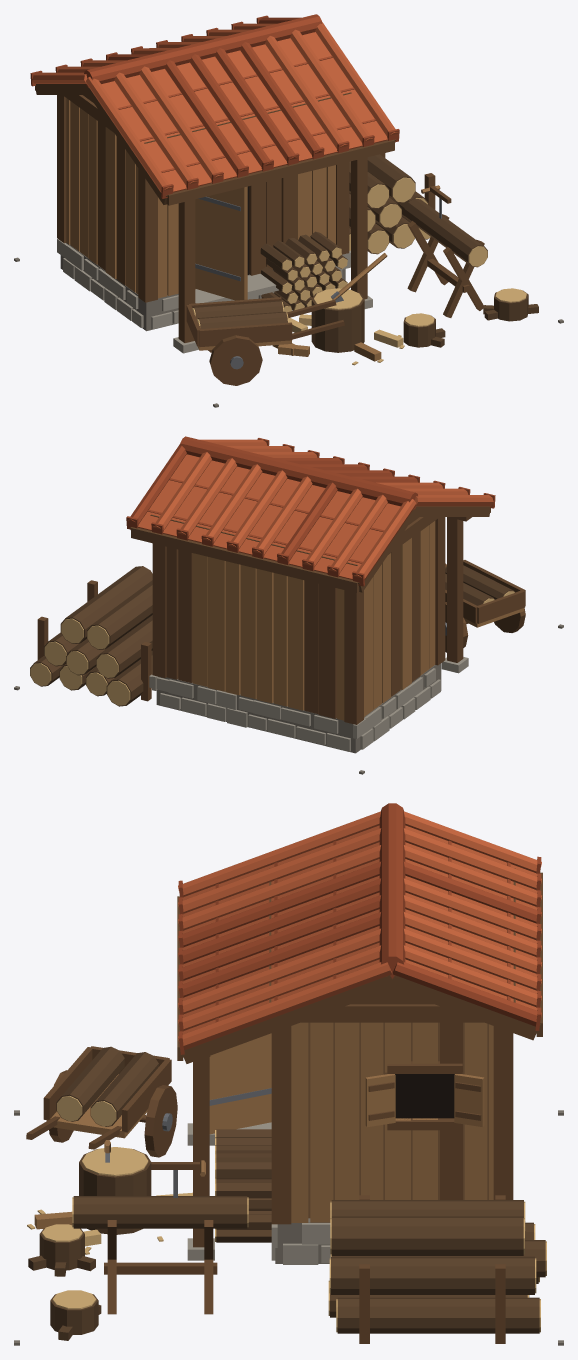
The model's file is Holzfaeller.fbx.
3 views of the same model, one above another, from view 1: azimuth 30°, elevation 25°; view 2: azimuth 150°, elevation 25°; view 3: azimuth 270°, elevation 25° (orthographic). The views are drawn at different scales.
Parts seen in each view (by area): view 1: Holzfaeller; view 2: Holzfaeller; view 3: Holzfaeller.
Part boxes in pixels (bbox=[...]): Holzfaeller: bbox=[14, 14, 563, 407]; Holzfaeller: bbox=[14, 436, 563, 774]; Holzfaeller: bbox=[14, 803, 563, 1345].
Bounding box in the file's own units: 3.64 × 2.33 × 3.64.
